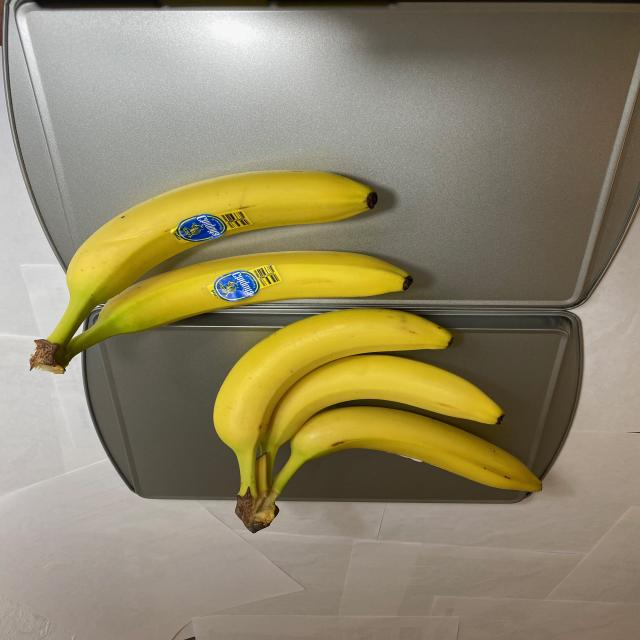banana: (24, 169, 420, 374), (206, 309, 549, 538)
